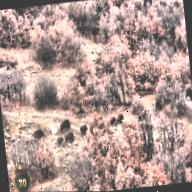boar: (76, 120, 90, 139), (56, 116, 72, 131), (34, 125, 45, 141), (64, 130, 75, 144), (114, 113, 124, 126)
